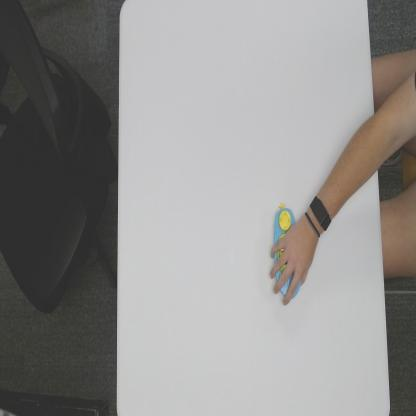Arm: (330, 118, 375, 212)
Boat: (274, 200, 302, 300)
Hand: (269, 215, 313, 307)
